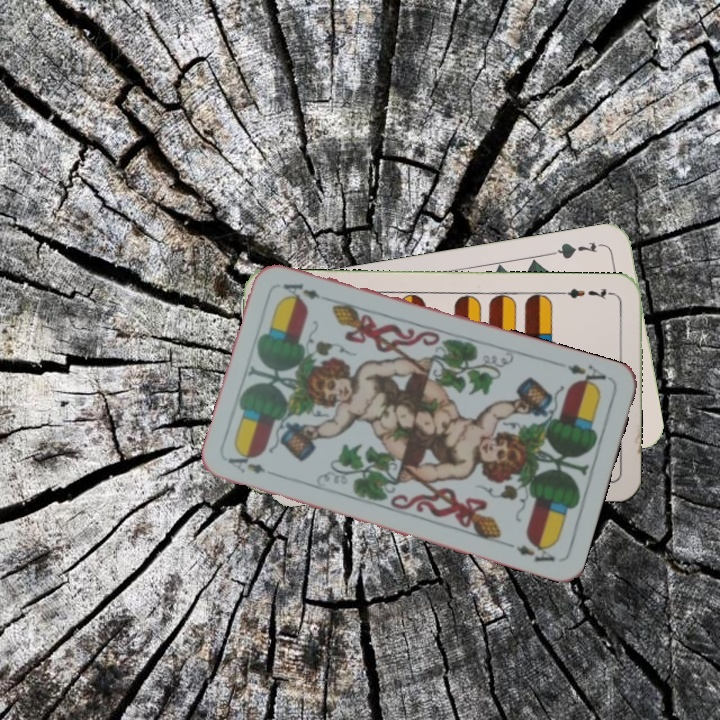E7: (558, 284, 617, 302)
EA: (563, 360, 613, 392), (224, 450, 268, 476)
G7: (548, 237, 607, 262)
